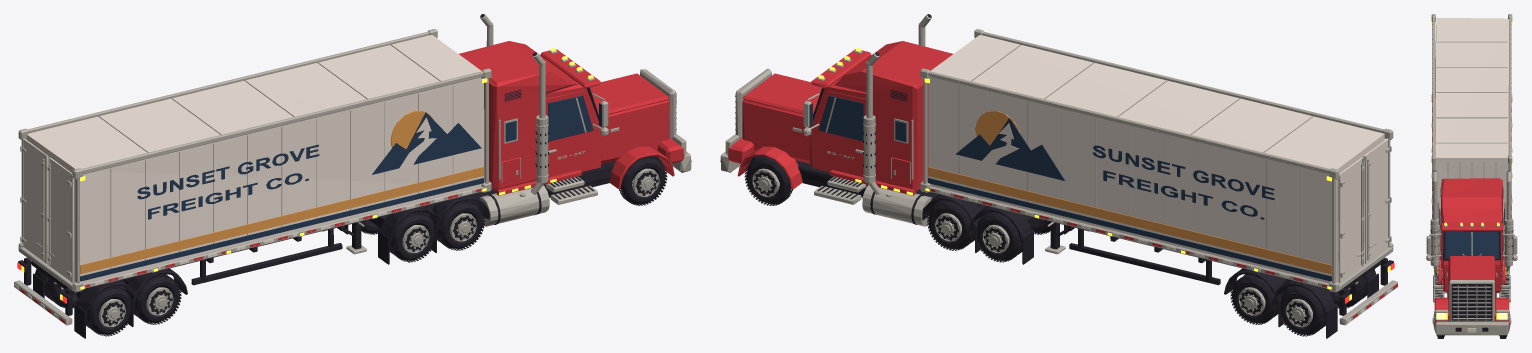
File: veh.semi-trailer.lod1.glb
The picture shows the model from 3 angles, left to right: view 1: azimuth 30°, elevation 25°; view 2: azimuth 150°, elevation 25°; view 3: azimuth 270°, elevation 25°; orthographic projection. The views are drawn at different scales.
Visible parts, largest first — view 1: body, object 1, wheelRL, wheelFL; view 2: body, object 1, wheelRR, wheelFR; view 3: body, object 1, lightsFront.
Part boxes in pixels (bbox=[...]): body: bbox=[14, 14, 691, 338]; object 1: bbox=[20, 48, 608, 336]; wheelRL: bbox=[437, 200, 484, 250]; wheelFL: bbox=[619, 156, 667, 205]; body: bbox=[720, 14, 1397, 338]; object 1: bbox=[803, 48, 1391, 336]; wheelRR: bbox=[927, 200, 974, 250]; wheelFR: bbox=[744, 156, 792, 205]; body: bbox=[1430, 14, 1513, 335]; object 1: bbox=[1426, 21, 1517, 319]; lightsFront: bbox=[1436, 313, 1507, 319].
Size of the model in its own units: 17.18 by 4.74 by 3.05.
